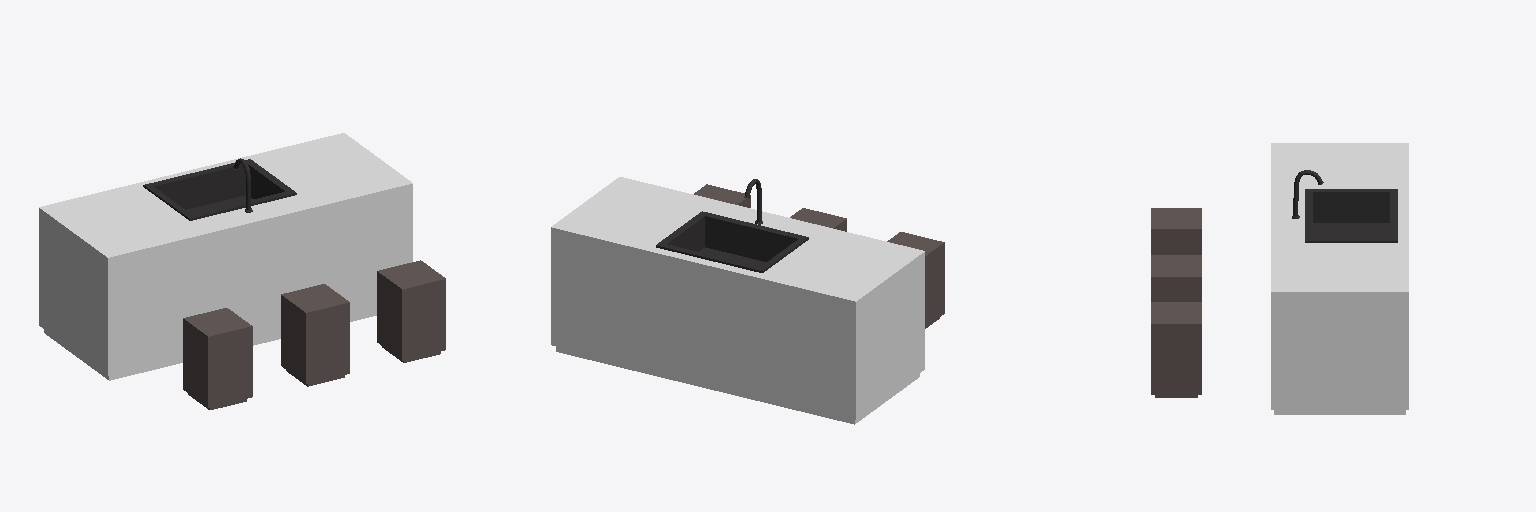
Rendered from lavaPlatos.obj.
3 renders of one model, left to right at view 1: azimuth 30°, elevation 25°; view 2: azimuth 150°, elevation 25°; view 3: azimuth 270°, elevation 25°, orthographic.
Parts seen in each view (by area): view 1: pCube19, pCube22, pCube23, pCube24, pCube21; view 2: pCube19, pCube21, pCube22, pCube23, pCube24; view 3: pCube19, pCube21, pCube24, pCube22, pCube23.
Part boxes in pixels (left/top/right/bottom): pCube19: left=39, top=133, right=412, bottom=380; pCube22: left=183, top=308, right=252, bottom=409; pCube23: left=281, top=284, right=349, bottom=386; pCube24: left=377, top=260, right=445, bottom=362; pCube21: left=143, top=159, right=296, bottom=220; pCube19: left=551, top=177, right=924, bottom=424; pCube21: left=656, top=211, right=808, bottom=272; pCube22: left=887, top=232, right=944, bottom=328; pCube23: left=790, top=208, right=846, bottom=231; pCube24: left=694, top=184, right=750, bottom=207; pCube19: left=1271, top=143, right=1408, bottom=414; pCube21: left=1305, top=189, right=1397, bottom=242; pCube24: left=1151, top=302, right=1201, bottom=397; pCube22: left=1151, top=208, right=1201, bottom=254; pCube23: left=1151, top=255, right=1201, bottom=301.
Size of the model in its own units: 255 by 137 by 187.